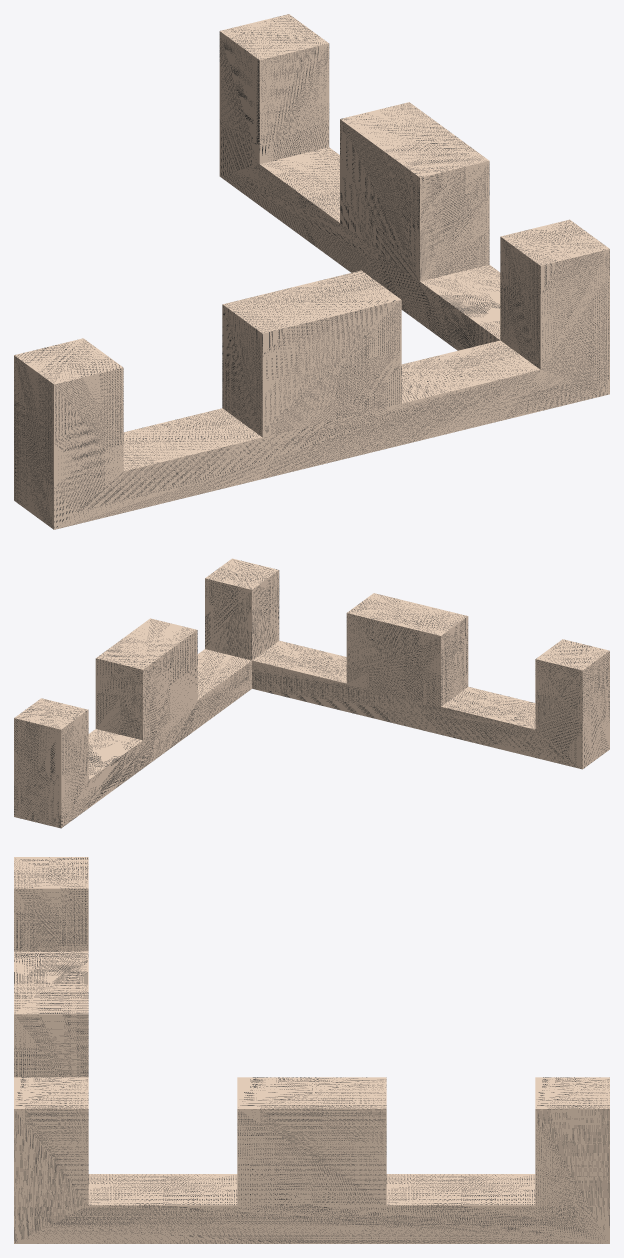
Rendered from Abstract_Castle_Block_Single_BattlementTopRightCorner_Cream_01.fbx.
The picture shows the model from 3 angles, top to bottom: view 1: azimuth 30°, elevation 25°; view 2: azimuth 150°, elevation 25°; view 3: azimuth 270°, elevation 25°; orthographic projection. The views are drawn at different scales.
Visible parts, largest first — view 1: Model; view 2: Model; view 3: Model.
Boxes of the visible parts, x1,y1,x2,y2 form: Model: (14, 14, 609, 529); Model: (14, 558, 609, 828); Model: (14, 857, 609, 1243).
Size of the model in its own units: 1000 by 250 by 1000.
